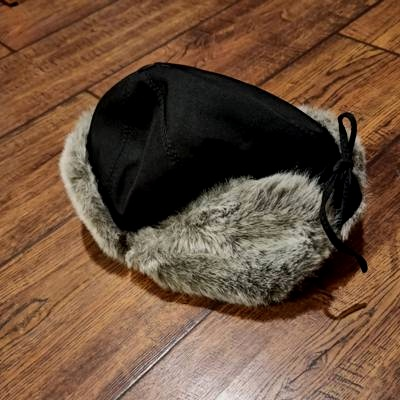Hat: (38, 51, 385, 318)
